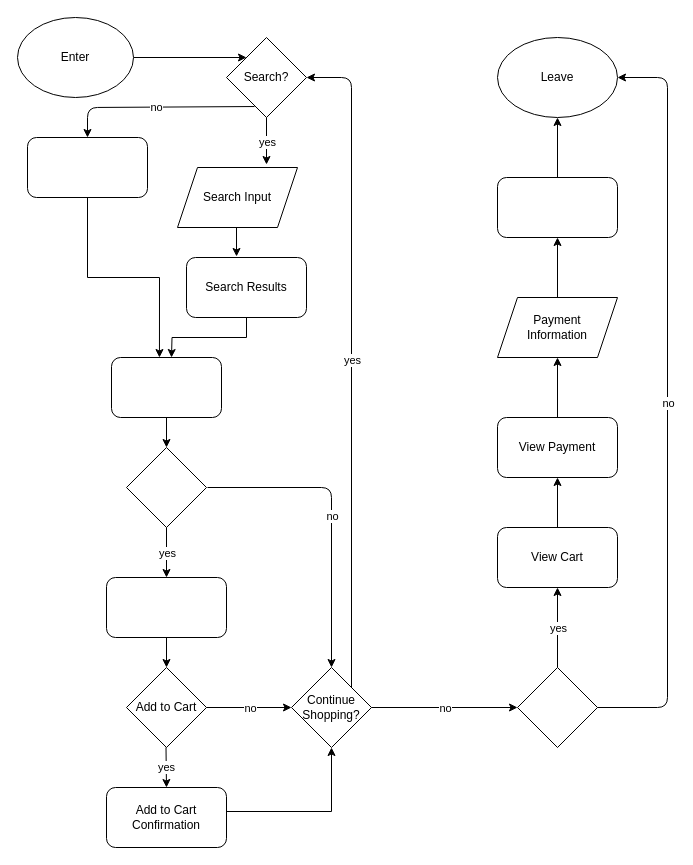
This 693x865 diagram has some shape labels left out. The shapes that lost their labels are listed below. From the top down, each one's centre as x and y in pixels, then its label:
At [87,167]: "Browse Homepage".
At [557,207]: "Payment Confirmation".
At [166,387]: "Look Over Products".
At [166,487]: "View A Specific Product".
At [166,607]: "Product Page Open".
At [557,707]: "Checkout?".
